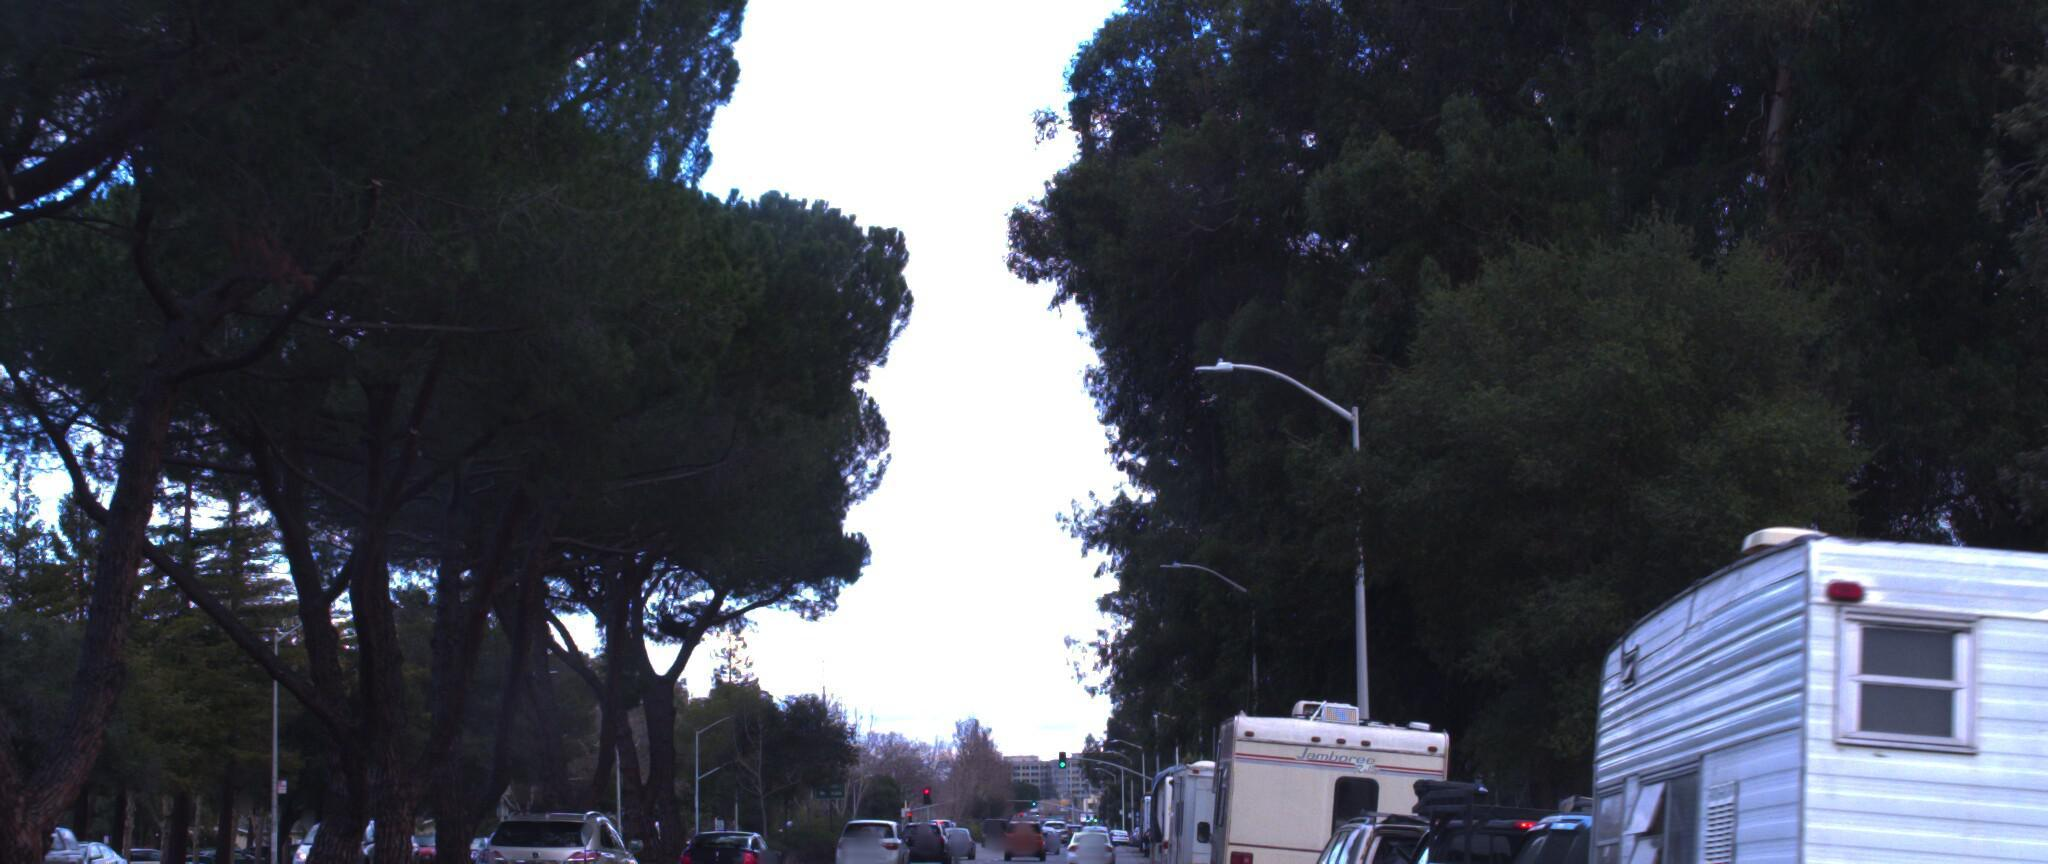car: (1416, 771, 2008, 864), (1337, 750, 1723, 864), (1266, 749, 1529, 864), (483, 788, 664, 864), (0, 792, 101, 864), (677, 809, 792, 864)
other_vehicle: (1554, 452, 2048, 864), (1196, 653, 1460, 864), (1159, 709, 1358, 864)
